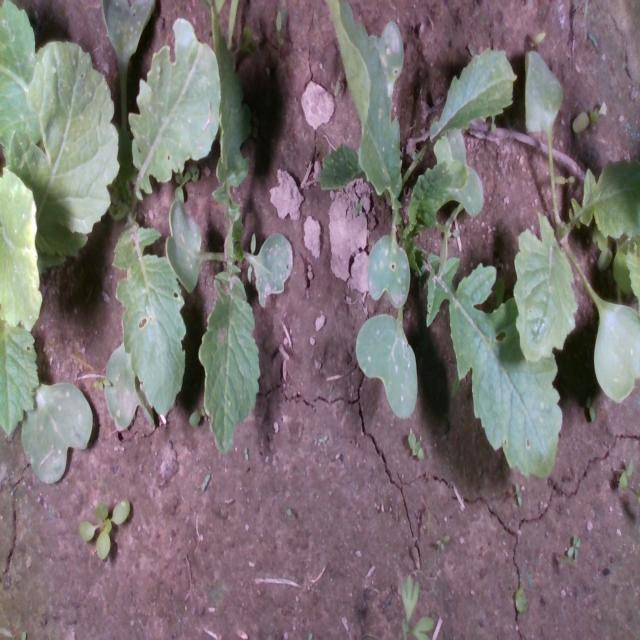weed: (242, 446, 248, 460)
